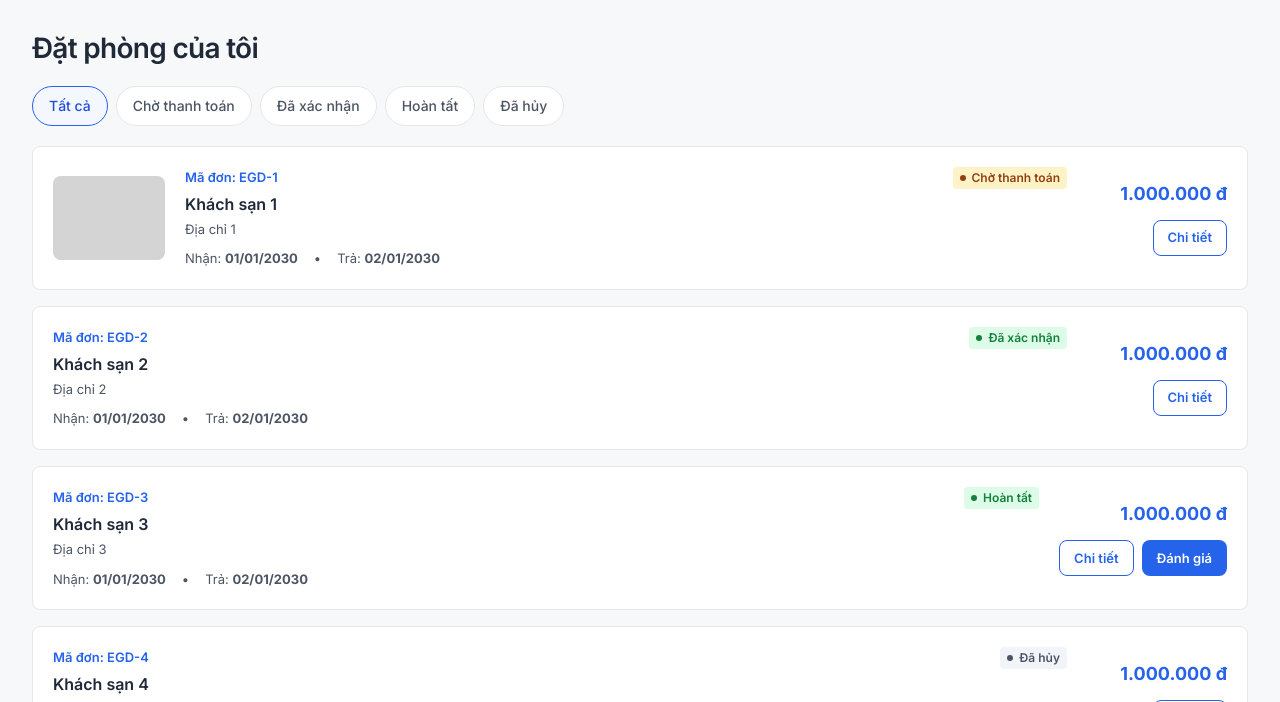
BookingsPage › filters by the exact backend status
The width and height of the screenshot is (1280, 702).
Click the button "Đã xác nhận".
click(318, 106)  # box [260,86,377,126]
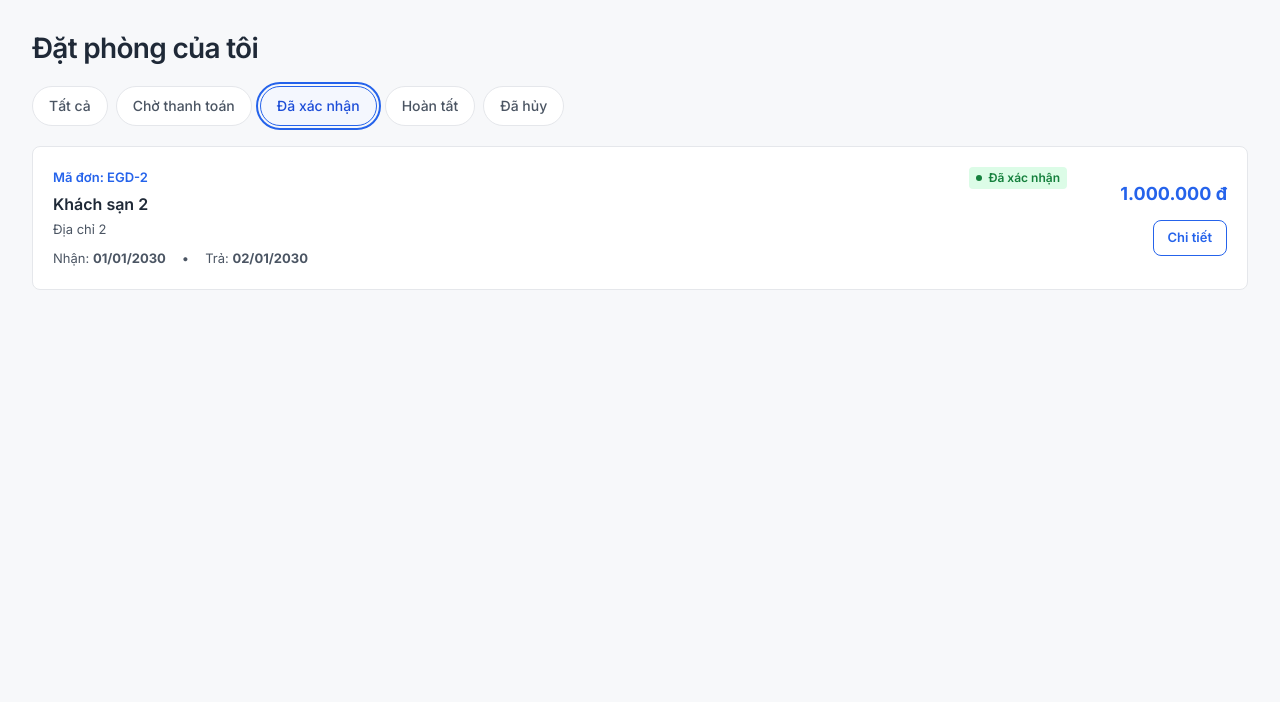
Expected: the heading "Khách sạn 2" is shown, [53,194,148,214]
Now the heading "Khách sạn 3" is gone
Now the link "Đánh giá" is gone
